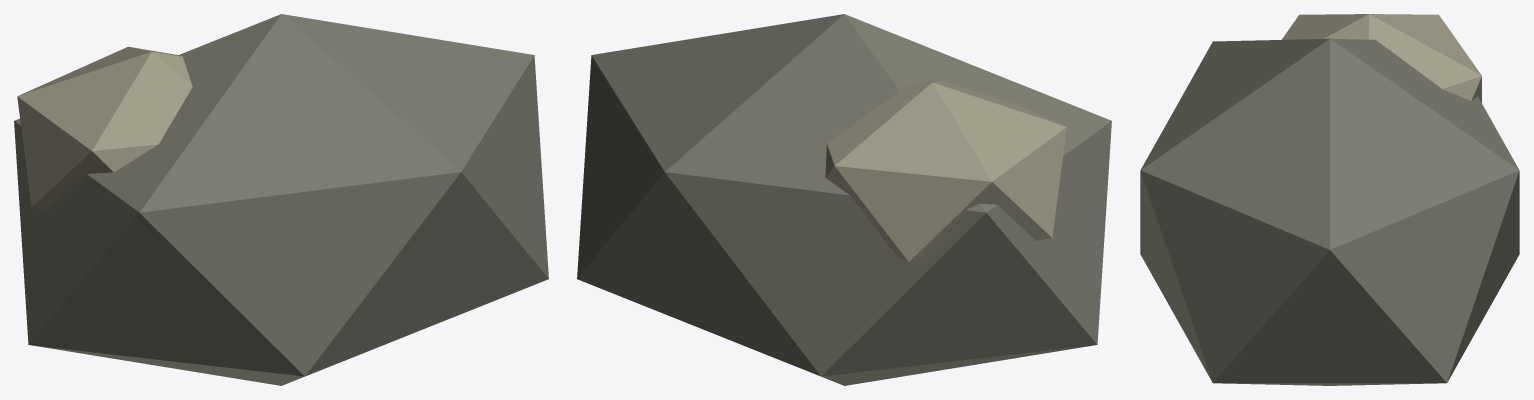
The model's file is rock.glb.
3 renders of one model, left to right at view 1: azimuth 30°, elevation 25°; view 2: azimuth 150°, elevation 25°; view 3: azimuth 270°, elevation 25°, orthographic. The views are drawn at different scales.
Parts seen in each view (by area): view 1: faceted rock, rock light facet; view 2: faceted rock, rock light facet; view 3: faceted rock, rock light facet.
Part boxes in pixels (<box>): faceted rock: <box>14,14,548,385</box>; rock light facet: <box>17,46,192,209</box>; faceted rock: <box>577,14,1111,385</box>; rock light facet: <box>825,80,1066,261</box>; faceted rock: <box>1140,38,1519,385</box>; rock light facet: <box>1281,14,1481,102</box>.
Bounding box in the file's own units: 1.4 × 0.98 × 0.9697.
